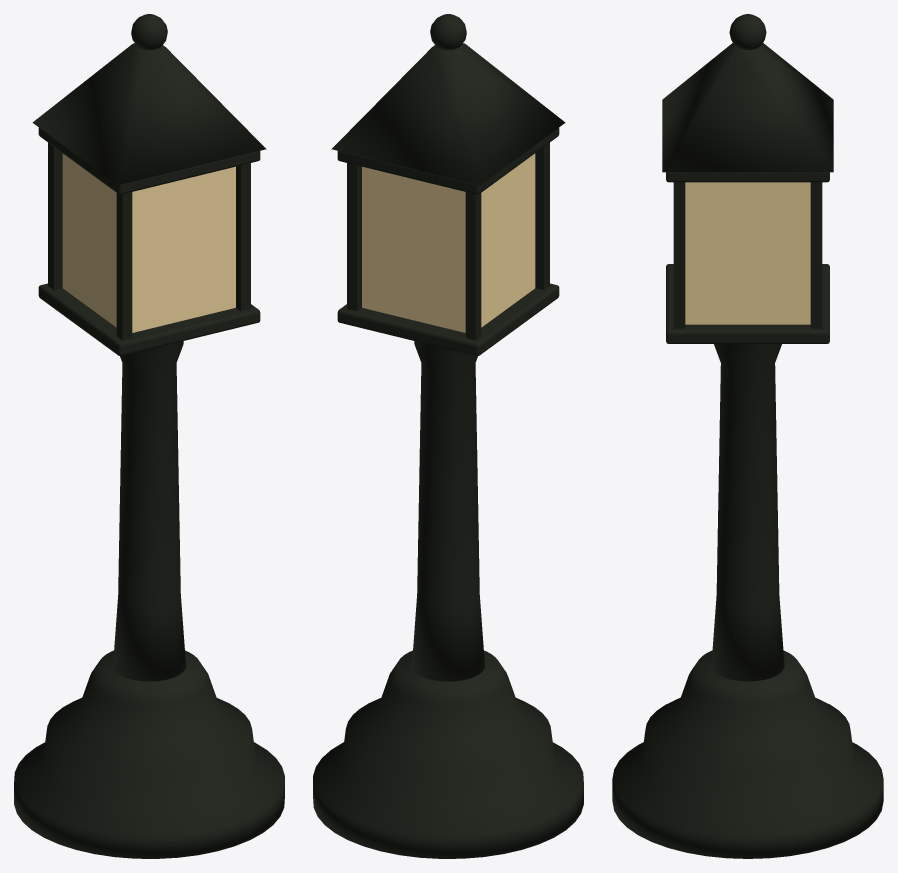
Rendered from lantern.fbx.
The picture shows the model from 3 angles, left to right: view 1: azimuth 30°, elevation 25°; view 2: azimuth 150°, elevation 25°; view 3: azimuth 270°, elevation 25°; orthographic projection.
Visible parts, largest first — view 1: Base, Glass, Post, Cap, Cage; view 2: Base, Glass, Post, Cap, Cage; view 3: Base, Post, Cap, Glass, Cage.
Part boxes in pixels (<box>): Base: <box>14,650,284,858</box>; Glass: <box>62,153,235,332</box>; Post: <box>113,341,185,681</box>; Cap: <box>32,14,266,185</box>; Cage: <box>38,127,260,356</box>; Base: <box>313,650,583,858</box>; Glass: <box>362,153,535,332</box>; Post: <box>412,341,484,681</box>; Cap: <box>331,14,565,185</box>; Cage: <box>337,127,559,356</box>; Base: <box>612,650,883,858</box>; Post: <box>711,344,784,681</box>; Cap: <box>662,14,833,172</box>; Glass: <box>685,182,810,324</box>; Cage: <box>666,172,829,343</box>.
Bounding box in the file's own units: 1.9 × 6.08 × 1.9.
